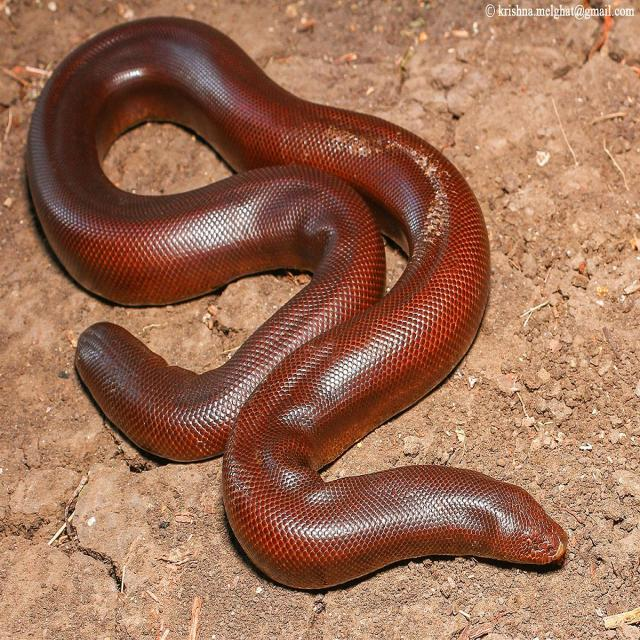Snake: (24, 14, 569, 591)
